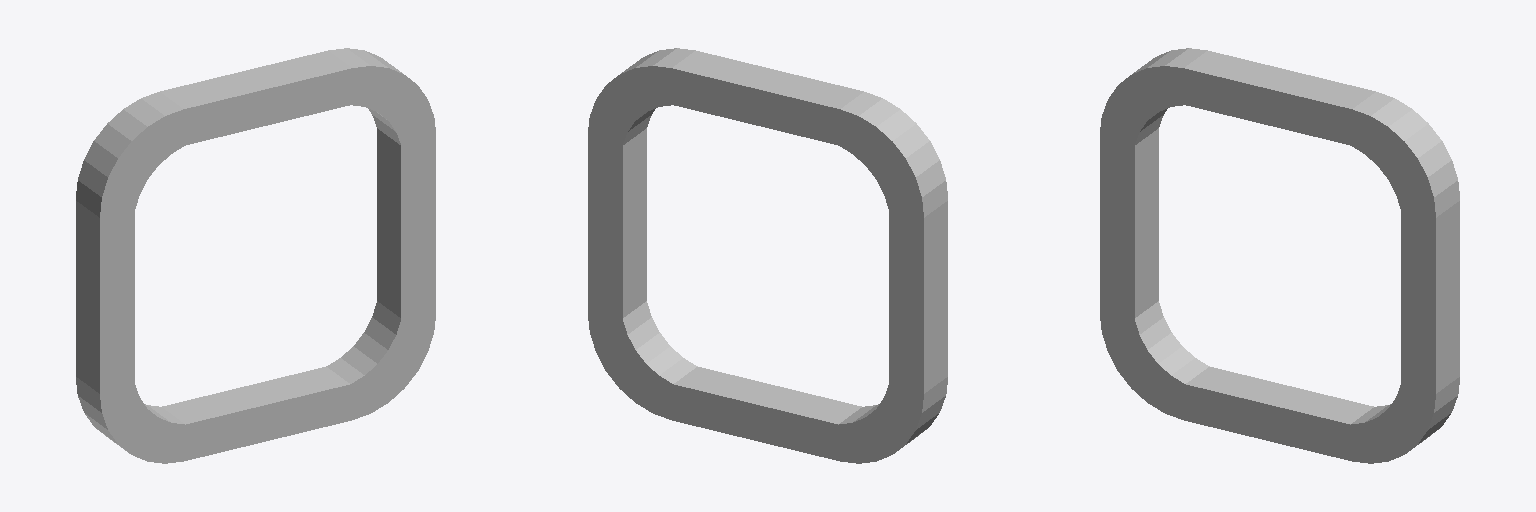
Rendered from squircle.obj.
3 views of the same model, side by side, from view 1: azimuth 30°, elevation 25°; view 2: azimuth 150°, elevation 25°; view 3: azimuth 330°, elevation 25° (orthographic).
Parts seen in each view (by area): view 1: squircle; view 2: squircle; view 3: squircle.
Part boxes in pixels (x1,y1,x2,y2): squircle: (76, 48, 435, 463); squircle: (588, 48, 947, 463); squircle: (1100, 48, 1459, 463).
Size of the model in its own units: 0.8747 by 0.8747 by 0.1094.